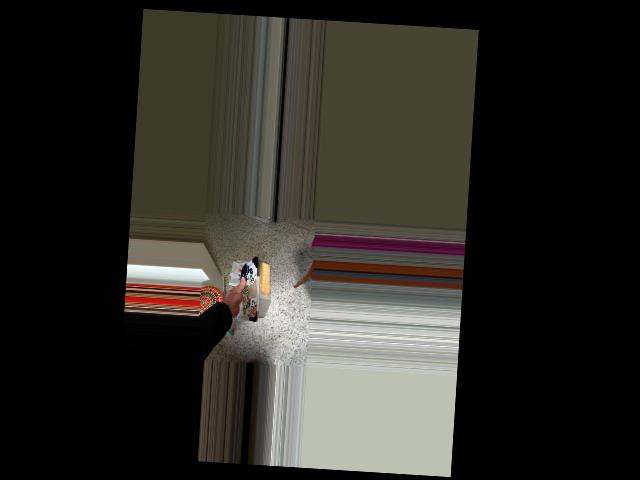cheese: (221, 252, 289, 331)
